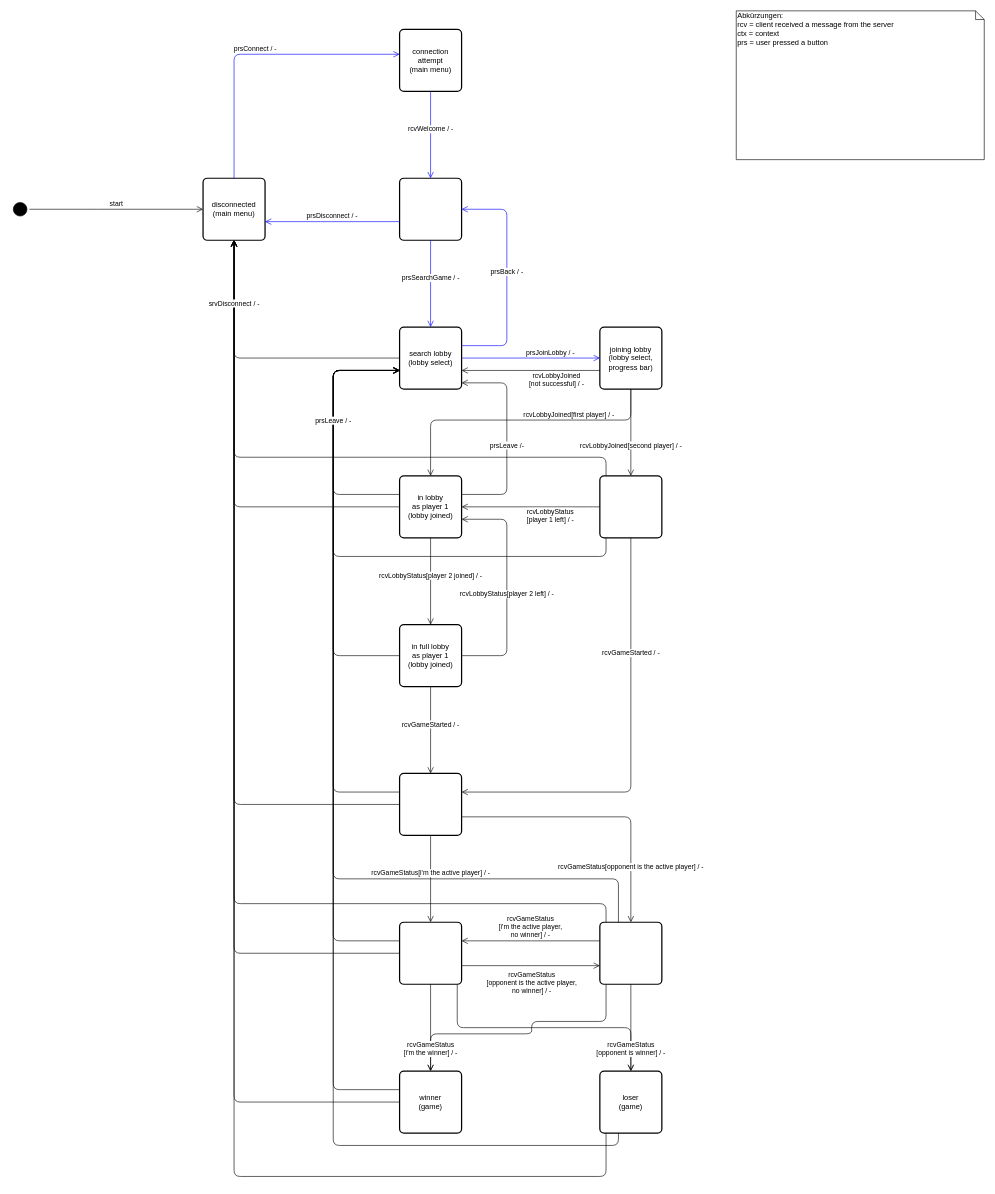
This 995x1194 diagram has some shape labels left out. The centre of each missing label's shape, as x and y in pixels:
connected (main menu): [430,209]
in game my turn (game): [430,953]
in game opponents turn (game): [630,953]
in lobby as player 2 (lobby joined): [630,506]
uninitialized game (game): [430,804]
